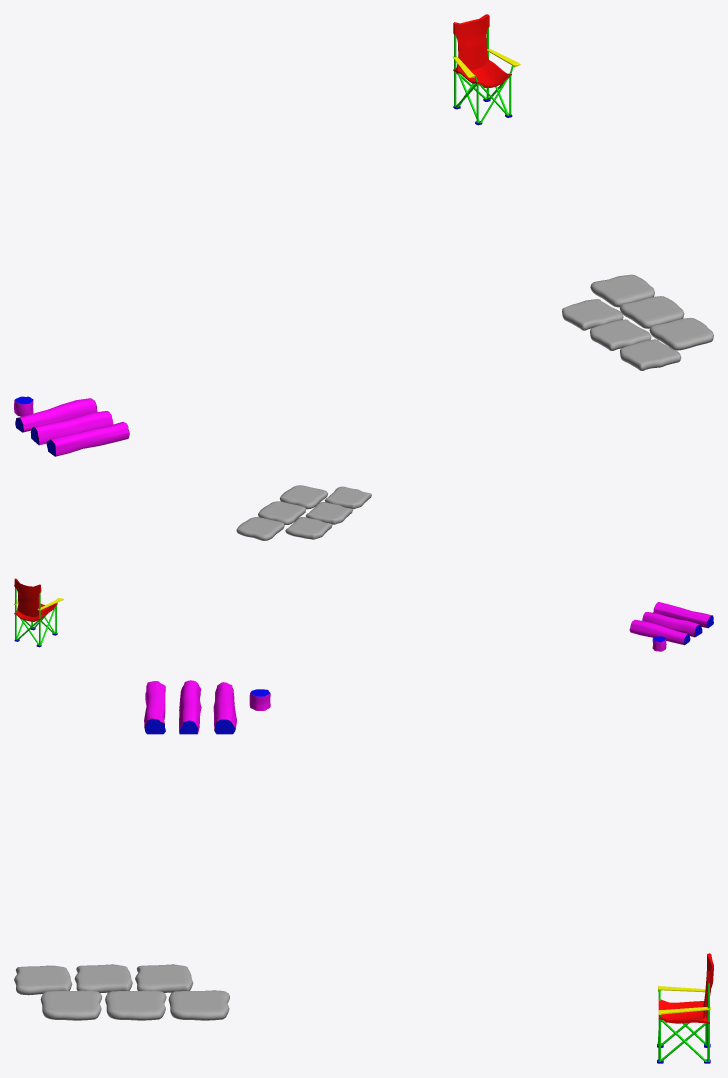
3 renders of one model, top to bottom at view 1: azimuth 30°, elevation 25°; view 2: azimuth 150°, elevation 25°; view 3: azimuth 270°, elevation 25°, orthographic. The views are drawn at different scales.
Visible parts, largest first — view 1: foldingChair_ID, Log4_ID, stone_path:pCube5stone_Path, stone_path:stone_PathpCube12, stone_path:stone_PathpCube14, Log6_ID, stone_path:stone_PathpCube6, Log5_ID, stone_path:stone_PathpCube11, stone_path:stone_PathpCube13; view 2: foldingChair_ID, stone_path:stone_PathpCube14, Log5_ID, stone_path:pCube5stone_Path, stone_path:stone_PathpCube12, Log4_ID, stone_path:stone_PathpCube13, Log6_ID, stone_path:stone_PathpCube6, stone_path:stone_PathpCube11; view 3: foldingChair_ID, stone_path:stone_PathpCube12, stone_path:pCube5stone_Path, stone_path:stone_PathpCube14, stone_path:stone_PathpCube6, stone_path:stone_PathpCube11, stone_path:stone_PathpCube13, Log6_ID, Log4_ID, Log5_ID.
Part boxes in pixels (box(x1,y1,x2,y2)): foldingChair_ID: box(452, 14, 520, 125); Log4_ID: box(46, 422, 129, 456); stone_path:pCube5stone_Path: box(649, 318, 713, 350); stone_path:stone_PathpCube12: box(619, 296, 684, 328); stone_path:stone_PathpCube14: box(590, 274, 654, 307); Log6_ID: box(30, 411, 113, 445); stone_path:stone_PathpCube6: box(620, 339, 681, 370); Log5_ID: box(15, 398, 97, 432); stone_path:stone_PathpCube11: box(590, 319, 651, 350); stone_path:stone_PathpCube13: box(562, 299, 623, 330); foldingChair_ID: box(14, 578, 63, 647); stone_path:stone_PathpCube14: box(236, 517, 284, 540); Log5_ID: box(629, 619, 690, 645); stone_path:pCube5stone_Path: box(279, 485, 327, 509); stone_path:stone_PathpCube12: box(258, 501, 306, 524); Log4_ID: box(653, 602, 713, 627); stone_path:stone_PathpCube13: box(285, 517, 332, 539); Log6_ID: box(642, 612, 702, 637); stone_path:stone_PathpCube6: box(324, 486, 371, 509); stone_path:stone_PathpCube11: box(306, 502, 352, 524); foldingChair_ID: box(657, 953, 713, 1063); stone_path:stone_PathpCube12: box(105, 990, 166, 1020); stone_path:pCube5stone_Path: box(40, 990, 101, 1020); stone_path:stone_PathpCube14: box(168, 990, 229, 1020); stone_path:stone_PathpCube6: box(14, 965, 72, 995); stone_path:stone_PathpCube11: box(74, 964, 132, 992); stone_path:stone_PathpCube13: box(135, 964, 193, 992); Log6_ID: box(179, 680, 201, 734); Log4_ID: box(144, 681, 165, 734); Log5_ID: box(213, 682, 236, 734).
Bounding box in the file's own units: 10.63 × 1.23 × 8.46.
